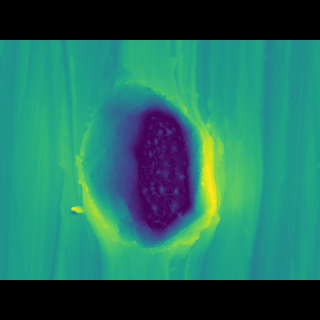Loch: (74, 88, 235, 240)
